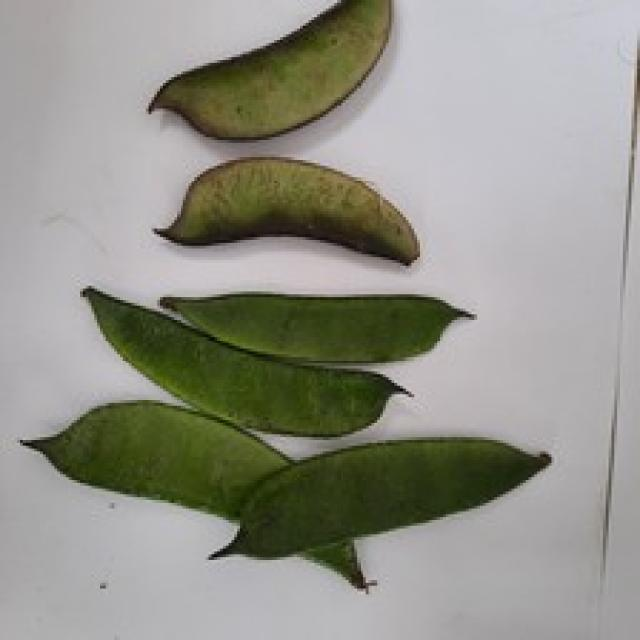Bean: (37, 397, 365, 590), (78, 281, 468, 424), (228, 433, 552, 566), (146, 0, 391, 140), (151, 154, 420, 266)
